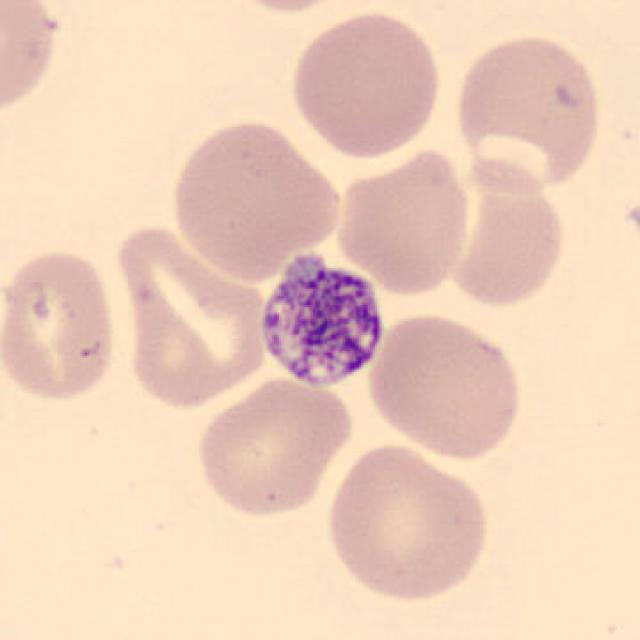Platelets: (251, 241, 391, 395)
RBC: (110, 218, 274, 412), (165, 115, 347, 280), (320, 439, 494, 607), (450, 28, 606, 198), (364, 308, 526, 462), (284, 7, 446, 160), (190, 374, 356, 520), (330, 141, 474, 298), (441, 155, 571, 312), (0, 245, 123, 406), (0, 0, 64, 125), (212, 0, 364, 16)
